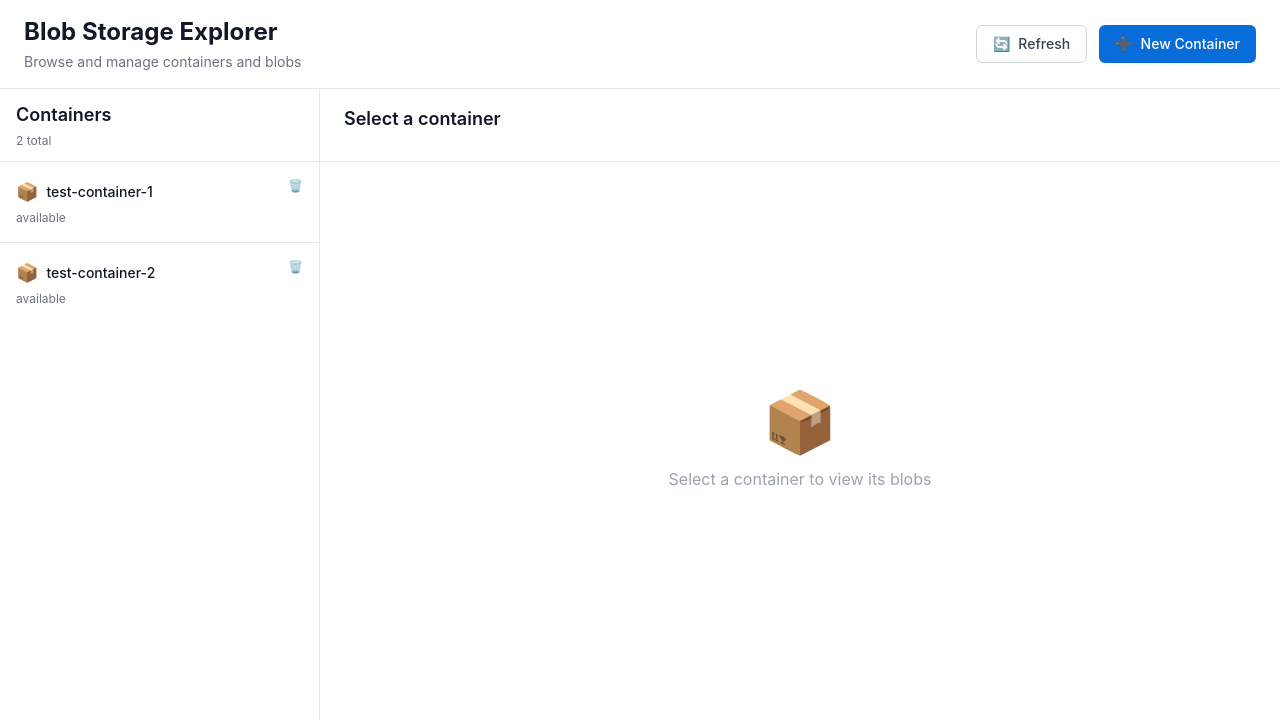
BlobStorage Component › Blob Selection › allows select all blobs
Click the heading "test-container-1": (100, 192) [46,182,153,202]
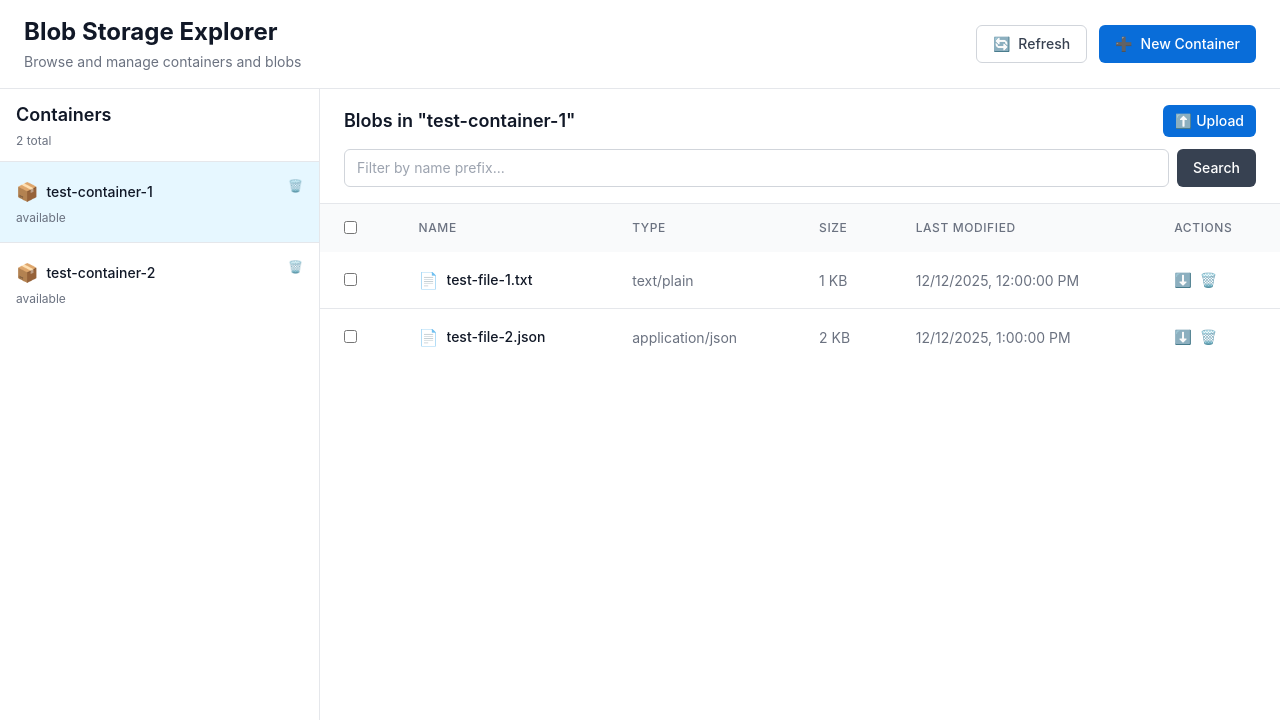
Now the text "test-file-1.txt" is shown, box [446,270,533,290]
Click the checkbox next to "Name": (350, 228) [344,221,357,234]
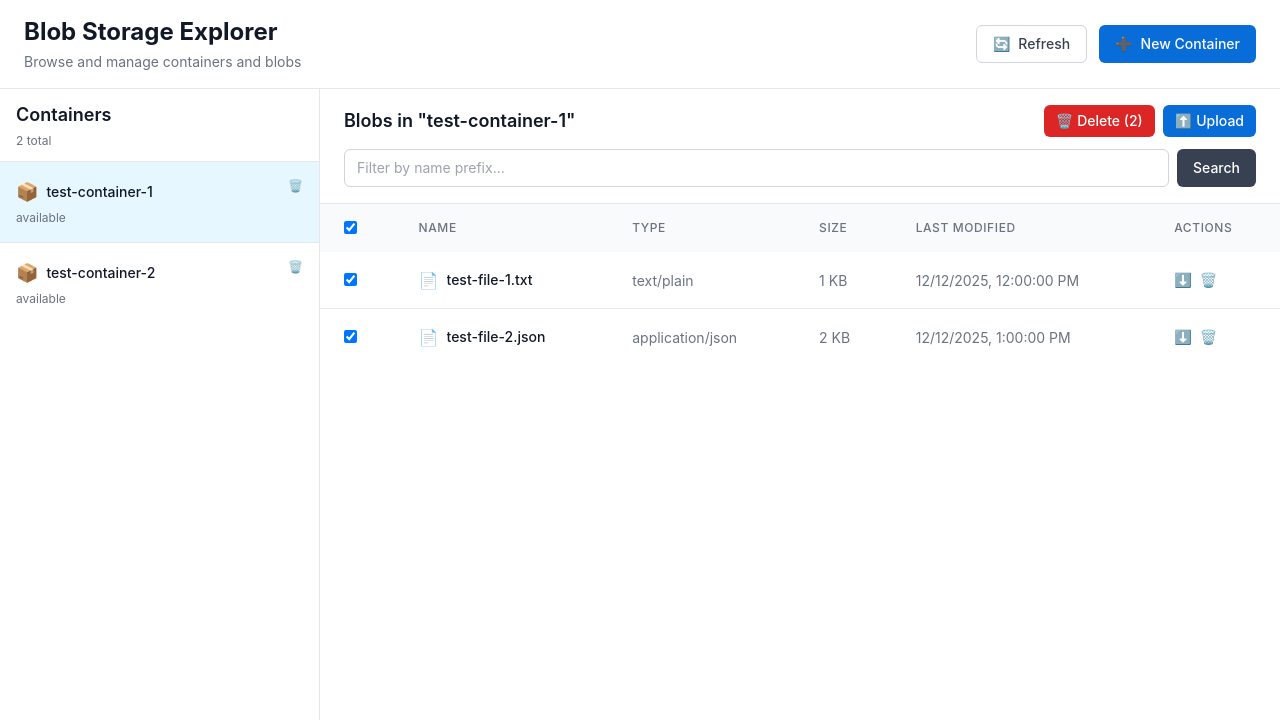
Now the checkbox next to "test-file-1.txt" is checked, box [344,273,357,286]
Now the checkbox next to "test-file-2.json" is checked, box [344,330,357,343]
